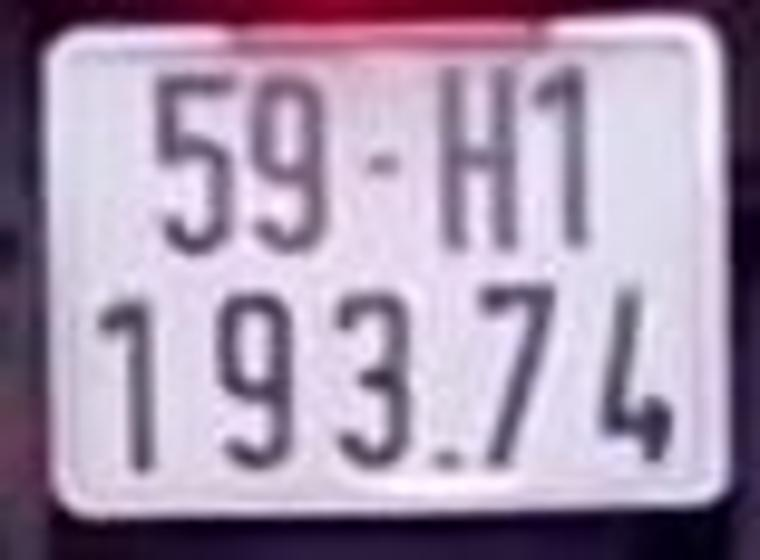-: (359, 135, 411, 177)
.: (432, 437, 468, 476)
1: (539, 62, 598, 257), (101, 292, 163, 476)
3: (330, 288, 420, 480)
4: (594, 284, 683, 467)
5: (148, 66, 243, 261)
7: (481, 279, 560, 470)
9: (244, 75, 329, 257), (217, 291, 297, 476)
H: (433, 57, 522, 252)
